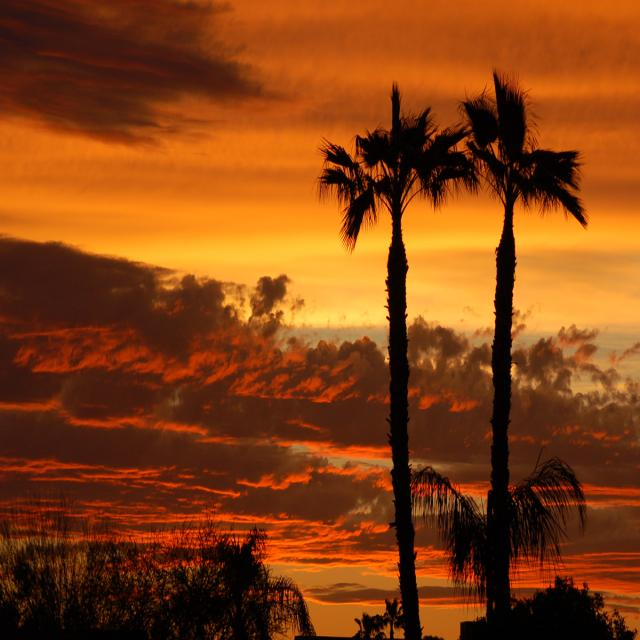no_fire: (5, 33, 616, 623)
